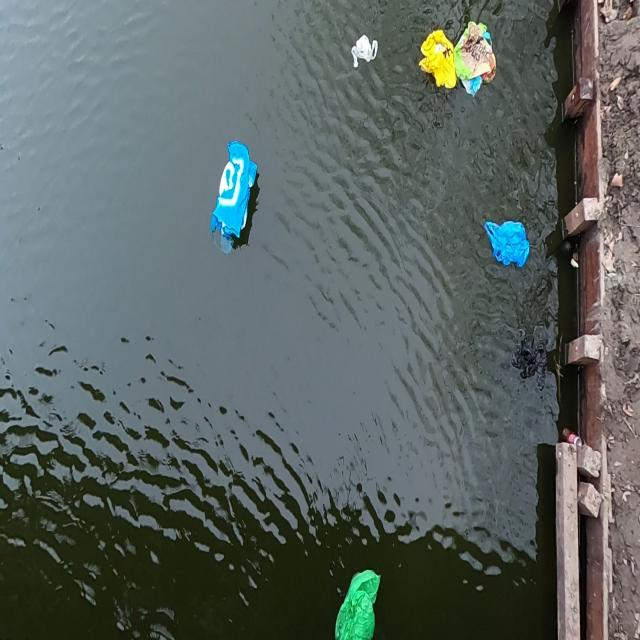Sac plastique: (202, 126, 264, 263), (328, 561, 388, 640), (454, 14, 502, 100), (480, 208, 534, 274), (418, 20, 456, 110), (346, 30, 382, 73)
